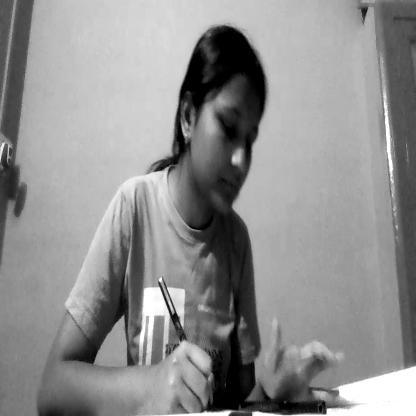Distracted: (176, 27, 272, 221)
